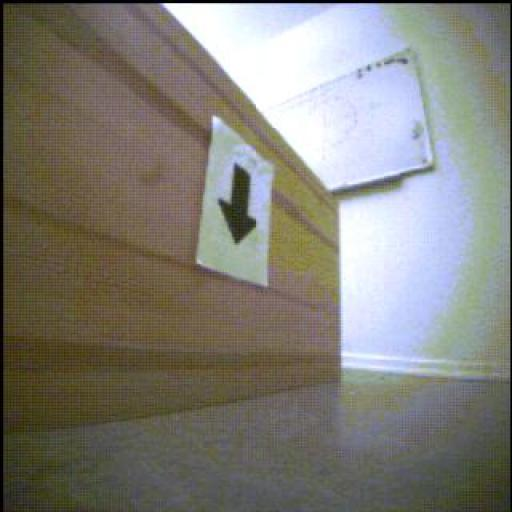Arrow: (219, 166, 257, 244)
